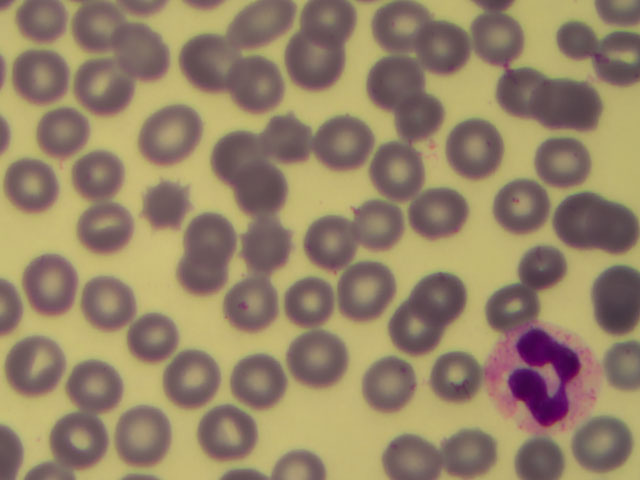RBC: (111, 24, 176, 86), (12, 45, 77, 107), (67, 56, 132, 118), (37, 92, 102, 154), (6, 149, 71, 211), (61, 144, 126, 206), (71, 201, 136, 263), (131, 176, 196, 238), (140, 104, 205, 166), (176, 31, 241, 93), (219, 52, 284, 114), (232, 1, 297, 63), (283, 34, 348, 96), (297, 2, 362, 64), (362, 49, 427, 111), (367, 2, 432, 64), (407, 17, 472, 79), (461, 7, 526, 69), (489, 65, 554, 127), (529, 75, 594, 137), (392, 86, 457, 148), (368, 143, 433, 205), (319, 114, 384, 176), (256, 106, 321, 168), (208, 120, 273, 182), (230, 157, 295, 219), (181, 203, 246, 265), (163, 244, 228, 306), (78, 272, 143, 334), (25, 251, 90, 313), (4, 338, 69, 400), (60, 350, 125, 412), (47, 410, 112, 472), (116, 404, 181, 466), (159, 348, 224, 410), (124, 306, 189, 368), (218, 274, 283, 336), (240, 214, 305, 276), (299, 211, 364, 273), (347, 195, 412, 257), (401, 180, 466, 242), (449, 119, 514, 181), (489, 177, 554, 239), (534, 134, 599, 196), (545, 186, 610, 248), (575, 200, 640, 262), (575, 272, 640, 334), (500, 234, 565, 296), (489, 276, 554, 338), (405, 261, 470, 323), (387, 301, 452, 363), (332, 263, 397, 325), (278, 272, 343, 334), (280, 330, 345, 392), (223, 351, 288, 413), (191, 397, 256, 459), (371, 418, 436, 480), (361, 357, 426, 419), (420, 339, 485, 401), (434, 418, 499, 480), (12, 1, 77, 62), (71, 1, 136, 61), (506, 430, 566, 480), (572, 420, 632, 470), (597, 29, 640, 82), (557, 14, 600, 67), (601, 340, 640, 393)
WBC: (477, 322, 601, 436)
